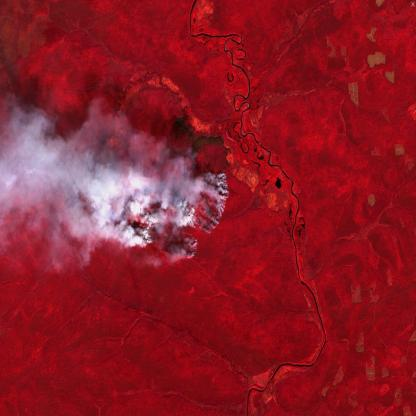fire: (135, 163, 234, 263)
